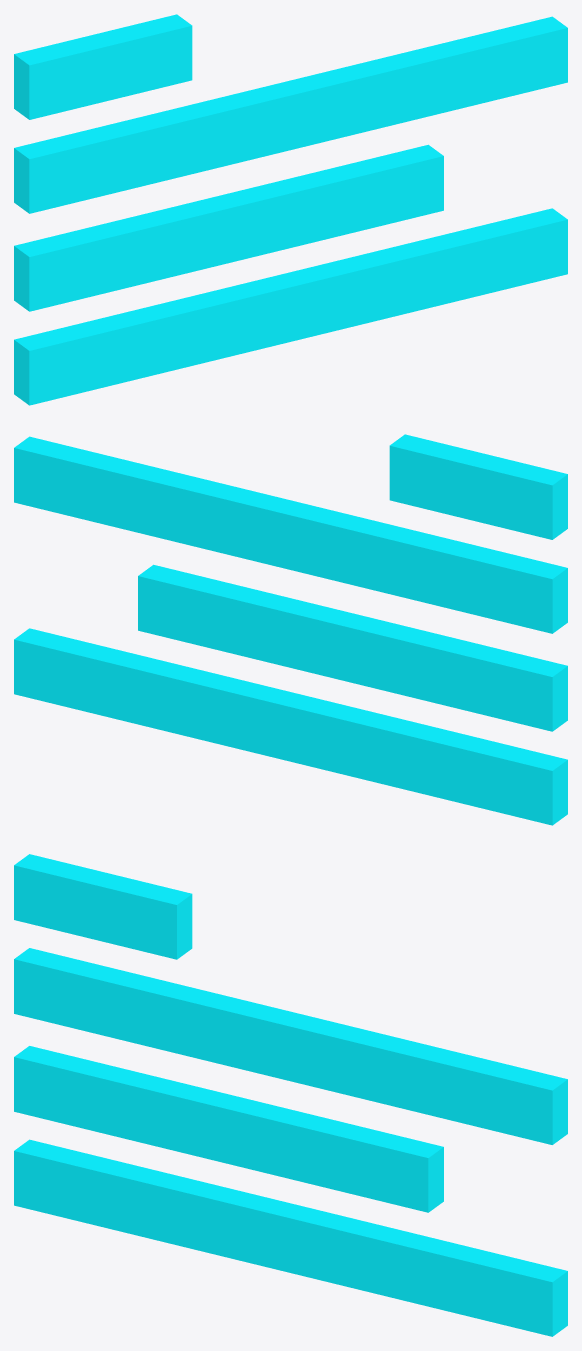
File: SM_Hud_Text_02.glb
The picture shows the model from 3 angles, top to bottom: view 1: azimuth 30°, elevation 25°; view 2: azimuth 150°, elevation 25°; view 3: azimuth 330°, elevation 25°; orthographic projection.
Parts seen in each view (by area): view 1: SM_Hud_Text_02; view 2: SM_Hud_Text_02; view 3: SM_Hud_Text_02.
Part boxes in pixels (x1,y1,x2,y2): SM_Hud_Text_02: [14, 14, 567, 405]; SM_Hud_Text_02: [14, 434, 567, 825]; SM_Hud_Text_02: [14, 854, 567, 1336].
Size of the model in its own units: 0.1554 by 0.0938 by 0.00774.
